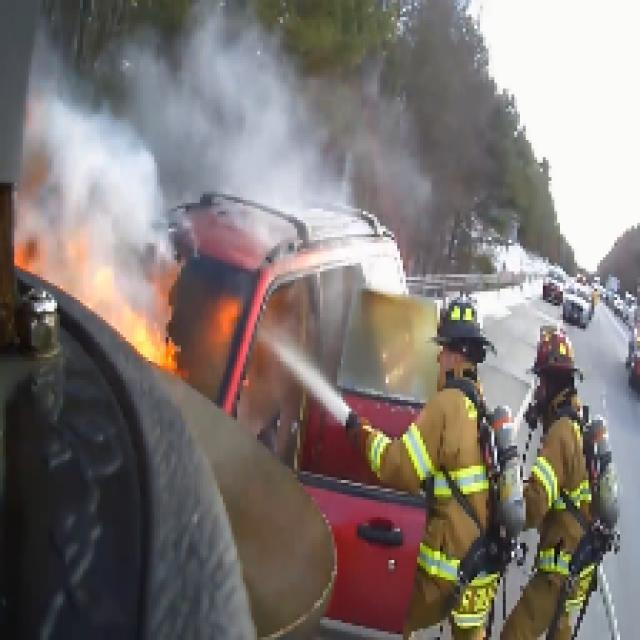Fire: (11, 197, 320, 440)
Smoke: (14, 2, 549, 278)
